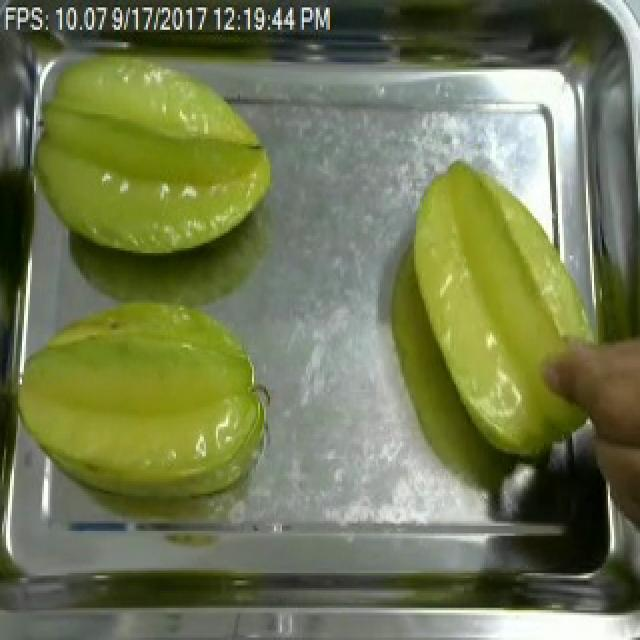fruit: (0, 283, 276, 516), (400, 156, 598, 474), (22, 40, 284, 265)
